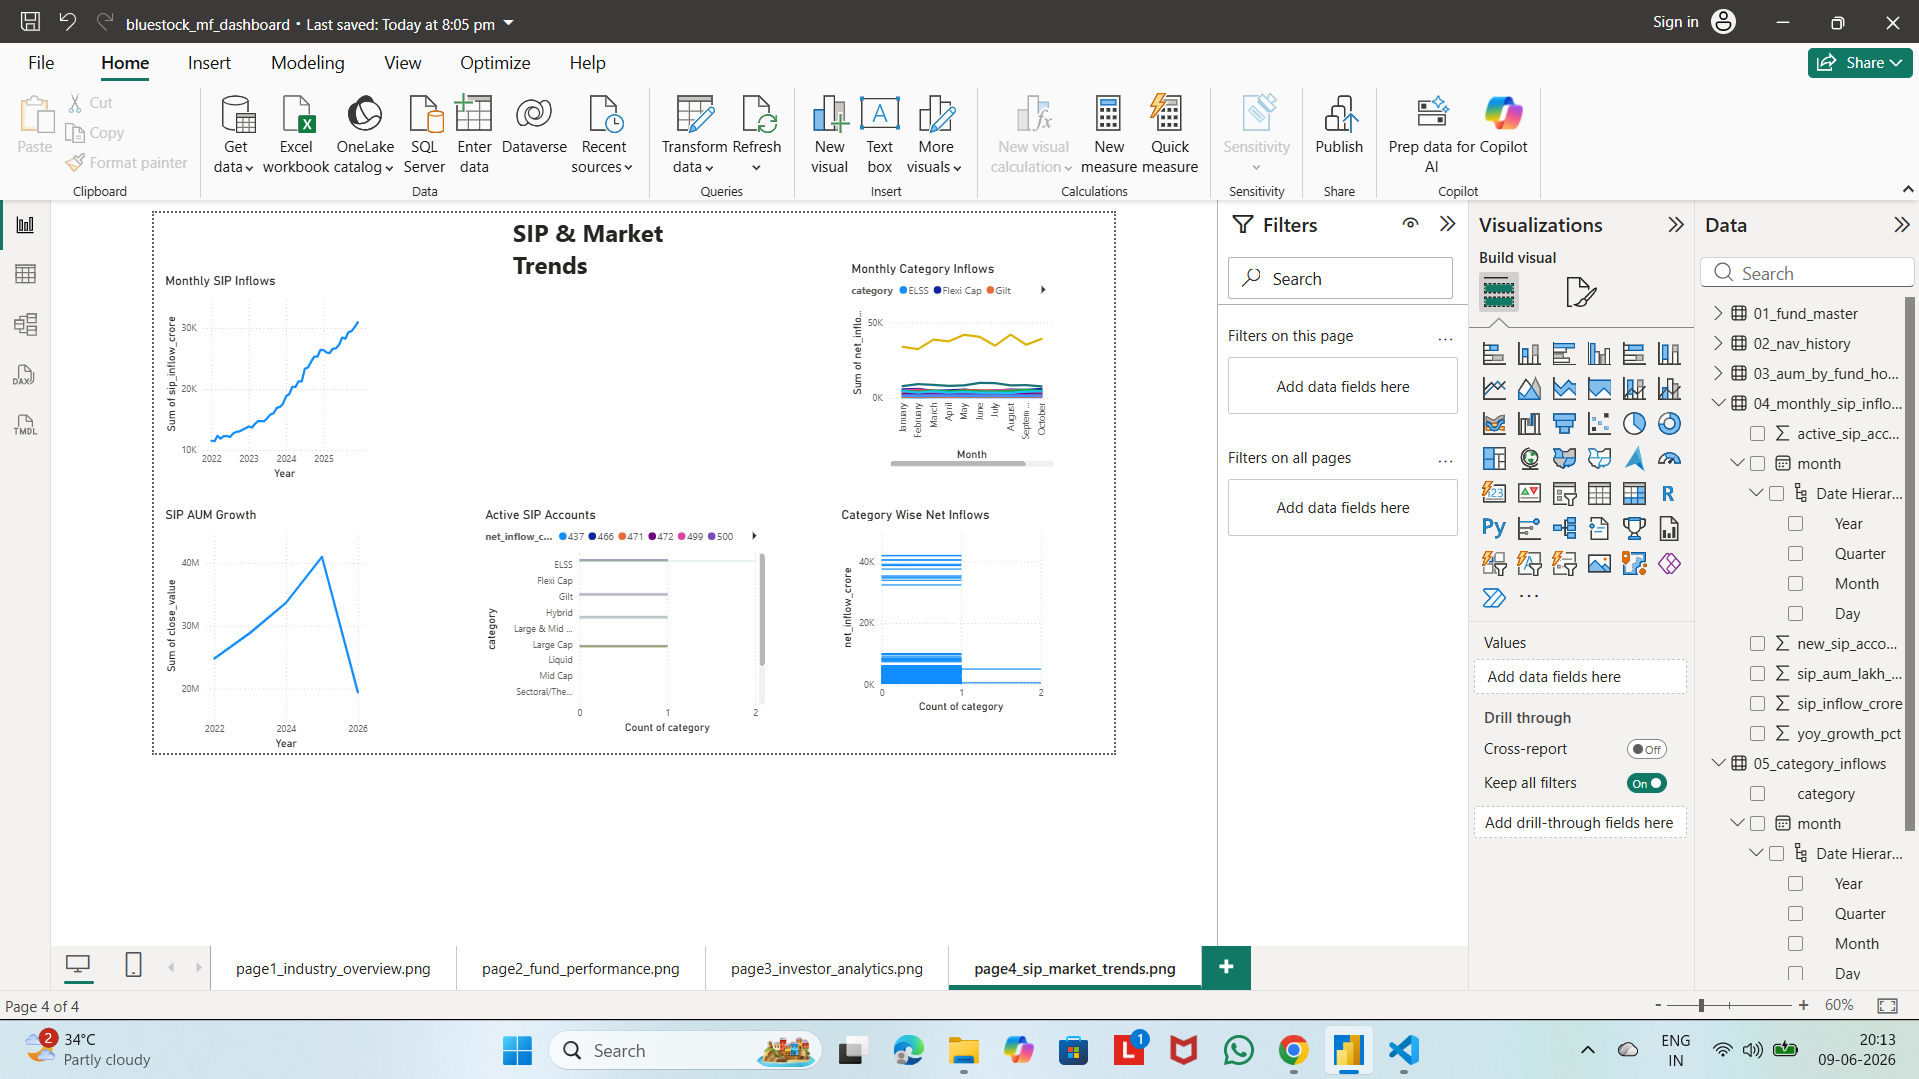

What the dashboard file says about the page in this screenshot:
{"tool":"powerbi","page":{"name":"page4_sip_market_trends.png","canvas":[1280,720],"ordinal":3},"visuals":[{"type":"lineChart","title":"Monthly SIP Inflows","fields":{"Y":["Sum(04_monthly_sip_inflows.sip_inflow_crore)"],"Category":["04_monthly_sip_inflows.month.Variation.Date Hierarchy.Year","04_monthly_sip_inflows.month.Variation.Date Hierarchy.Quarter","04_monthly_sip_inflows.month.Variation.Date Hierarchy.Month","04_monthly_sip_inflows.month.Variation.Date Hierarchy.Day"]},"box":[10,80,280,280],"z":0},{"type":"lineChart","title":"SIP AUM Growth","fields":{"Category":["10_benchmark_indices.date.Variation.Date Hierarchy.Year","10_benchmark_indices.date.Variation.Date Hierarchy.Quarter","10_benchmark_indices.date.Variation.Date Hierarchy.Month","10_benchmark_indices.date.Variation.Date Hierarchy.Day"],"Y":["Sum(10_benchmark_indices.close_value)"]},"box":[10,440,280,280],"z":1},{"type":"clusteredBarChart","title":"Active SIP Accounts","fields":{"Category":["05_category_inflows.category"],"Y":["CountNonNull(05_category_inflows.category)"],"Series":["05_category_inflows.net_inflow_crore"]},"box":[436.7,391.7,383.3,306.7],"z":2},{"type":"barChart","title":"Category Wise Net Inflows","fields":{"Y":["CountNonNull(05_category_inflows.category)"],"Category":["05_category_inflows.net_inflow_crore"]},"box":[911.7,391.7,280,280],"z":3},{"type":"lineChart","title":"Monthly Category Inflows","fields":{"Category":["05_category_inflows.month.Variation.Date Hierarchy.Month"],"Y":["Sum(05_category_inflows.net_inflow_crore)"],"Series":["05_category_inflows.category"]},"box":[925,63.3,280,280],"z":4},{"type":"textbox","box":[473.3,0,280,280],"z":5}]}

Visuals, with their boxes on the page's 1280x720 design canvas (x1, y1, x2, y2). These are canvas units, not pixel positions in the 1919x1079 screenshot, which may show the page scaled, cropped or inside an application window:
"Monthly SIP Inflows" lineChart: bbox(10, 80, 290, 360)
"SIP AUM Growth" lineChart: bbox(10, 440, 290, 720)
"Active SIP Accounts" clusteredBarChart: bbox(437, 392, 820, 698)
"Category Wise Net Inflows" barChart: bbox(912, 392, 1192, 672)
"Monthly Category Inflows" lineChart: bbox(925, 63, 1205, 343)
textbox: bbox(473, 0, 753, 280)
